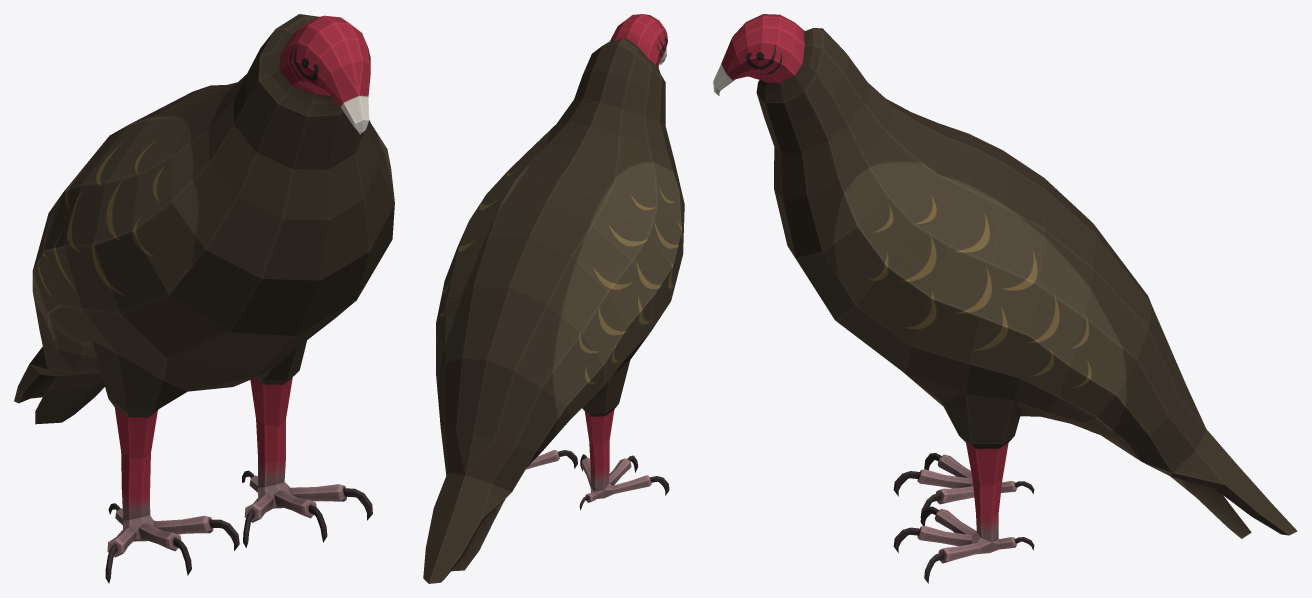
File: 731a1ee8-ef73-43fd-b4cd-aee5005a17c0.glb
The picture shows the model from 3 angles, left to right: view 1: azimuth 30°, elevation 25°; view 2: azimuth 150°, elevation 25°; view 3: azimuth 270°, elevation 25°; orthographic projection. The views are drawn at different scales.
Visible parts, largest first — view 1: TurkeyVulture_mesh2; view 2: TurkeyVulture_mesh2; view 3: TurkeyVulture_mesh2.
Boxes of the visible parts, bbox=[...] form: TurkeyVulture_mesh2: bbox=[14, 14, 394, 583]; TurkeyVulture_mesh2: bbox=[423, 14, 684, 583]; TurkeyVulture_mesh2: bbox=[713, 14, 1297, 583].
Size of the model in its own units: 5.38 by 10.81 by 11.09.
1 material, 1 textured.
